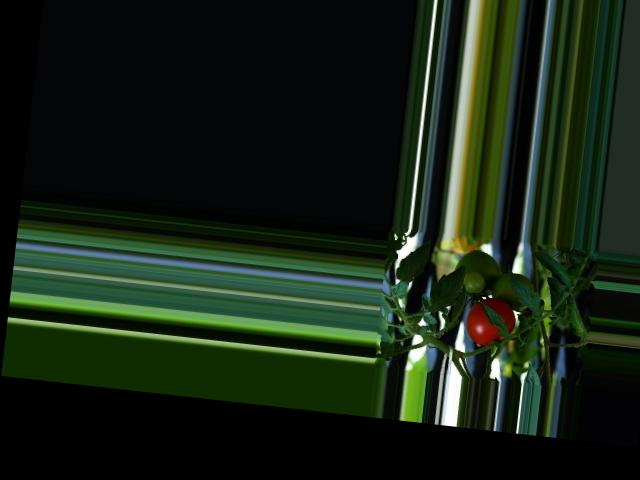tomato: (463, 295, 517, 348)
